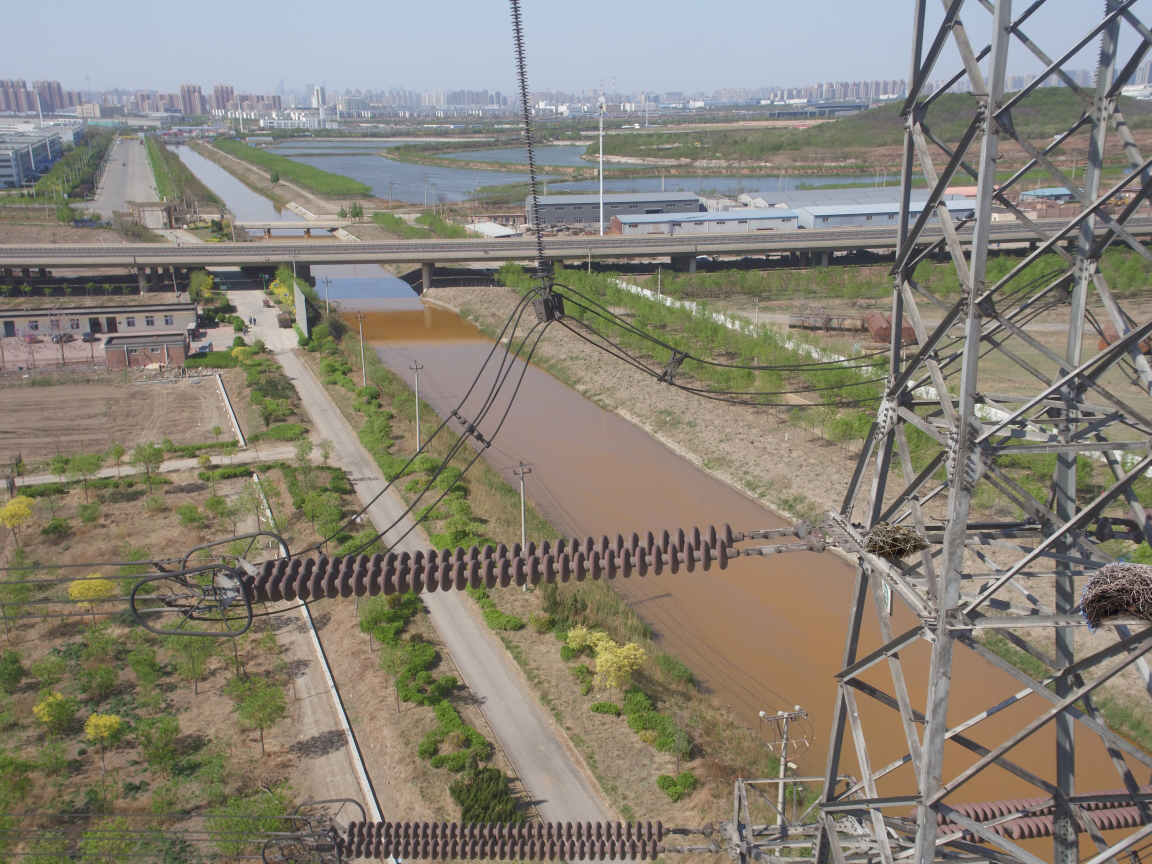nest: (1073, 555, 1152, 630), (860, 518, 930, 562)
